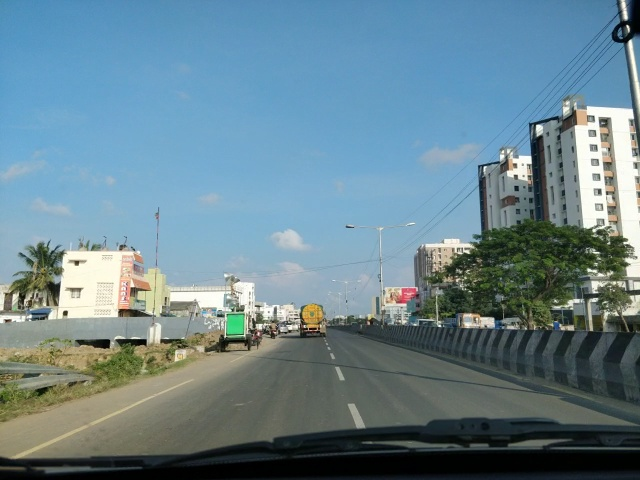motorbike: (269, 320, 279, 344)
truck: (295, 302, 332, 336), (443, 315, 483, 346)
